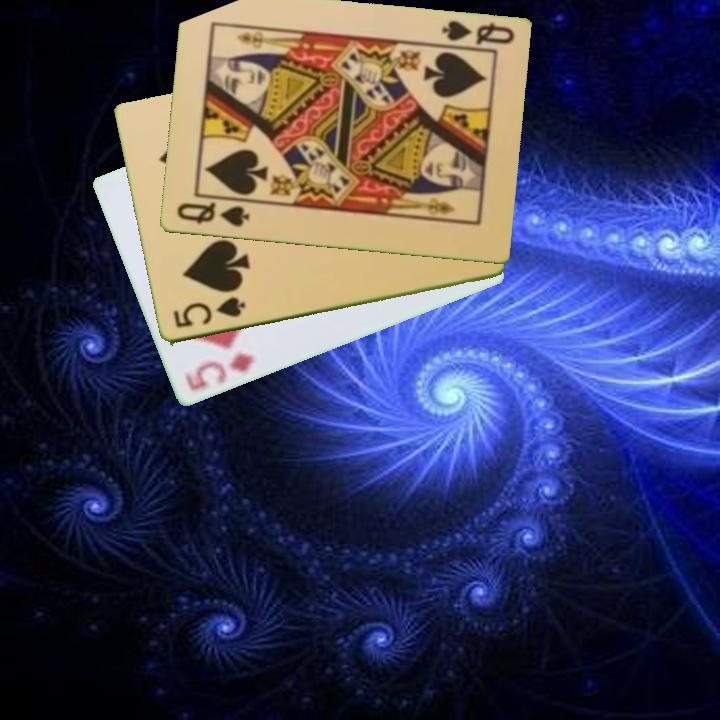5d: (181, 349, 257, 395)
5s: (169, 293, 249, 331)
Qs: (434, 17, 517, 53), (173, 199, 252, 231)
